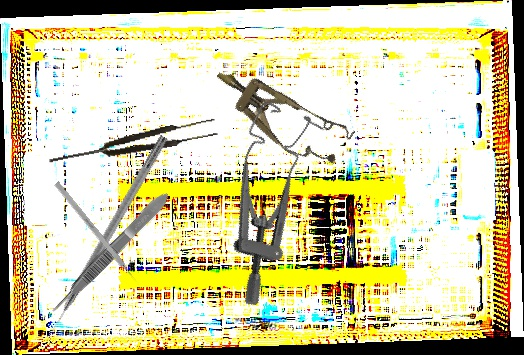Hook Surgical: (40, 133, 170, 345), (53, 181, 142, 287)
Speculum: (180, 94, 343, 310), (203, 51, 356, 177)
Tissue Forceps: (45, 189, 174, 317), (46, 116, 219, 171)
